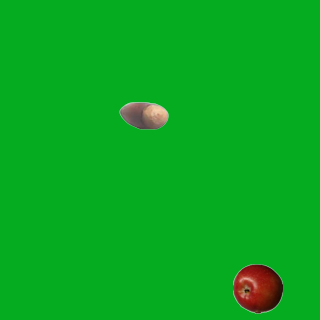Apple Braeburn: (232, 263, 282, 313)
Hazelnut: (118, 90, 168, 140)
